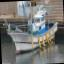fishing boat: (1, 0, 59, 54)
